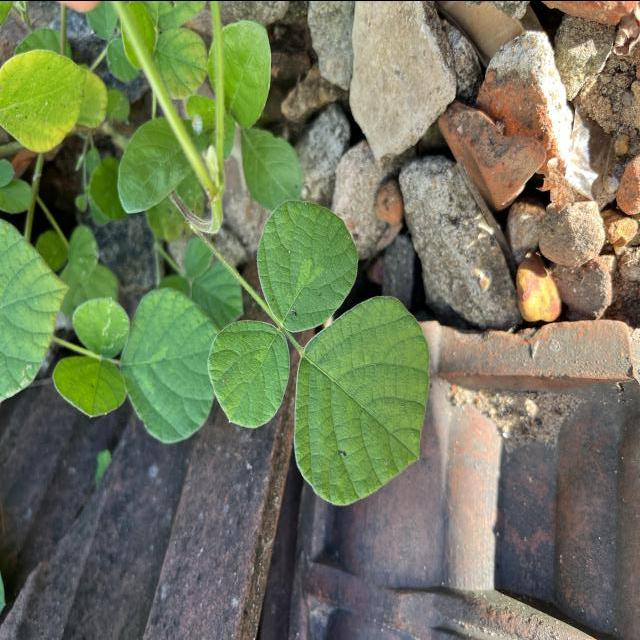Pseudarthria viscida: (206, 195, 431, 510)
